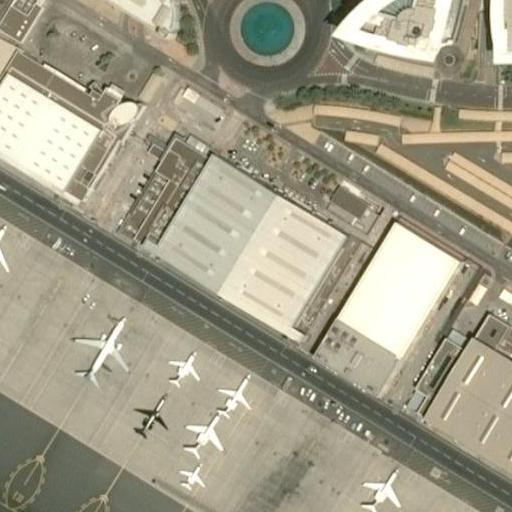Aircraft: (73, 310, 132, 386), (179, 409, 231, 459), (359, 465, 404, 512), (163, 345, 201, 388), (216, 371, 253, 415), (132, 392, 166, 438), (178, 463, 206, 493), (0, 219, 12, 279)
